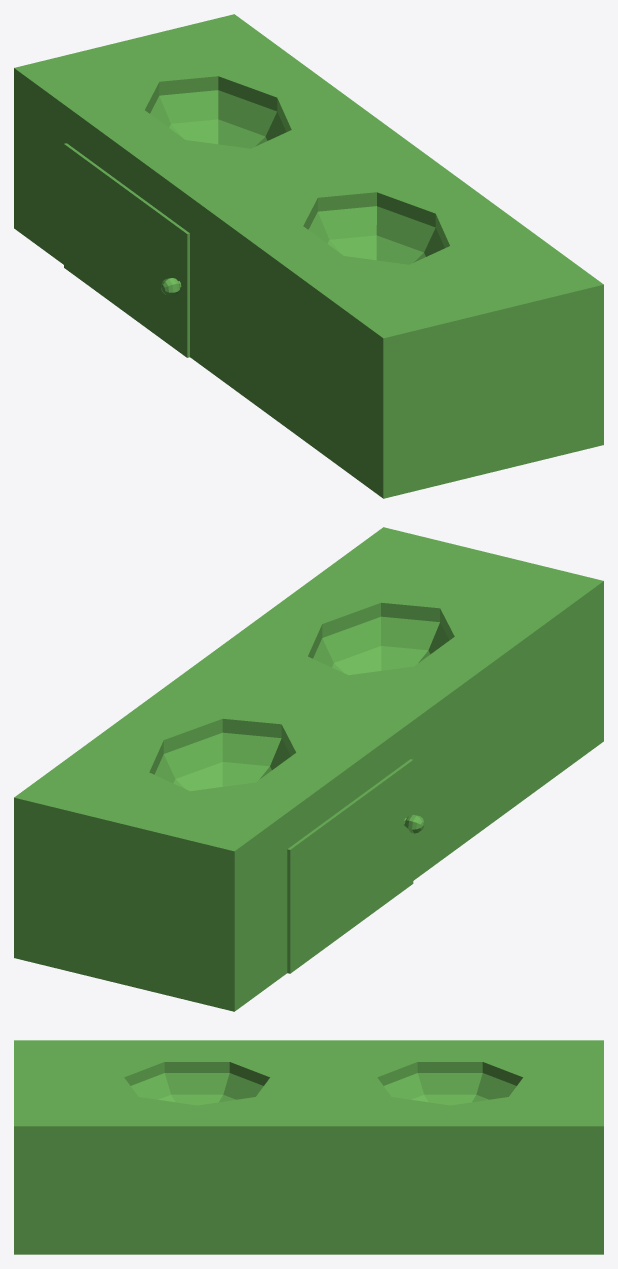
The model's file is MasterSink.fbx.
3 renders of one model, top to bottom at view 1: azimuth 30°, elevation 25°; view 2: azimuth 150°, elevation 25°; view 3: azimuth 270°, elevation 25°, orthographic. The views are drawn at different scales.
Parts seen in each view (by area): view 1: Drawer, pSphere3; view 2: Drawer, pSphere3; view 3: Drawer.
Boxes of the visible parts, left/top/right/bottom form: Drawer: left=14, top=14, right=603, bottom=498; pSphere3: left=64, top=143, right=189, bottom=357; Drawer: left=14, top=527, right=603, bottom=1011; pSphere3: left=287, top=759, right=424, bottom=973; Drawer: left=14, top=1040, right=603, bottom=1254.
Size of the model in its own units: 122 by 77.6 by 324.
